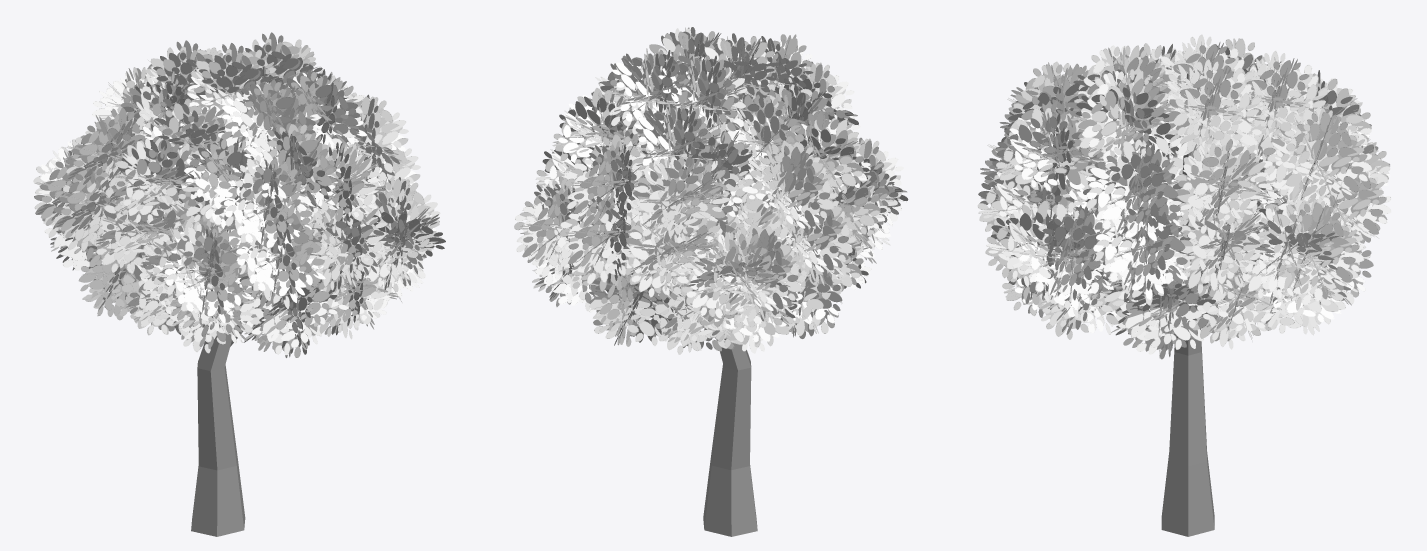
Rendered from TreeRex.fbx.
The picture shows the model from 3 angles, left to right: view 1: azimuth 30°, elevation 25°; view 2: azimuth 150°, elevation 25°; view 3: azimuth 270°, elevation 25°; orthographic projection. The views are drawn at different scales.
Parts seen in each view (by area): view 1: pPlane156, pCylinder14; view 2: pPlane156, pCylinder14; view 3: pPlane156, pCylinder14.
Boxes of the visible parts, bbox=[...] form: pPlane156: bbox=[33, 32, 445, 357]; pCylinder14: bbox=[191, 65, 265, 536]; pPlane156: bbox=[514, 27, 908, 354]; pCylinder14: bbox=[683, 71, 757, 536]; pPlane156: bbox=[977, 34, 1391, 359]; pCylinder14: bbox=[1161, 73, 1224, 536].
Size of the model in its own units: 10.94 by 14.28 by 11.52.
Materials: 2 (1 with a texture image).
